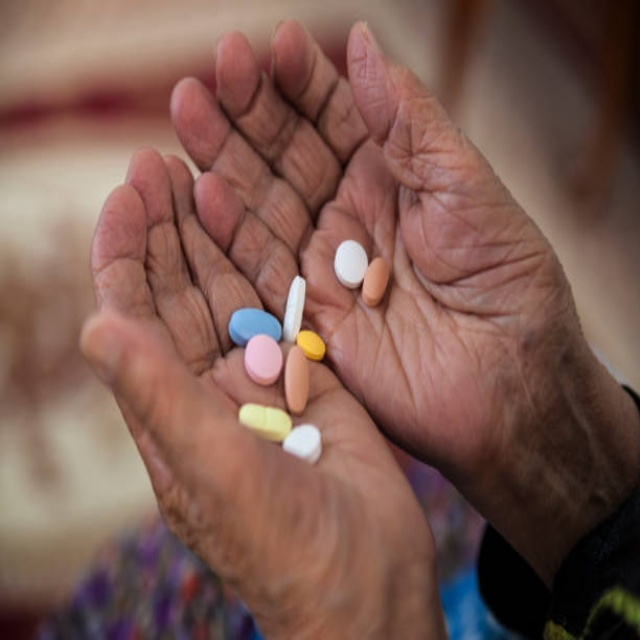pill: (228, 256, 278, 279), (234, 212, 269, 244), (220, 197, 269, 219), (274, 220, 298, 264), (319, 152, 353, 183), (270, 175, 292, 215), (347, 164, 374, 195), (270, 272, 308, 293), (283, 211, 312, 229)
